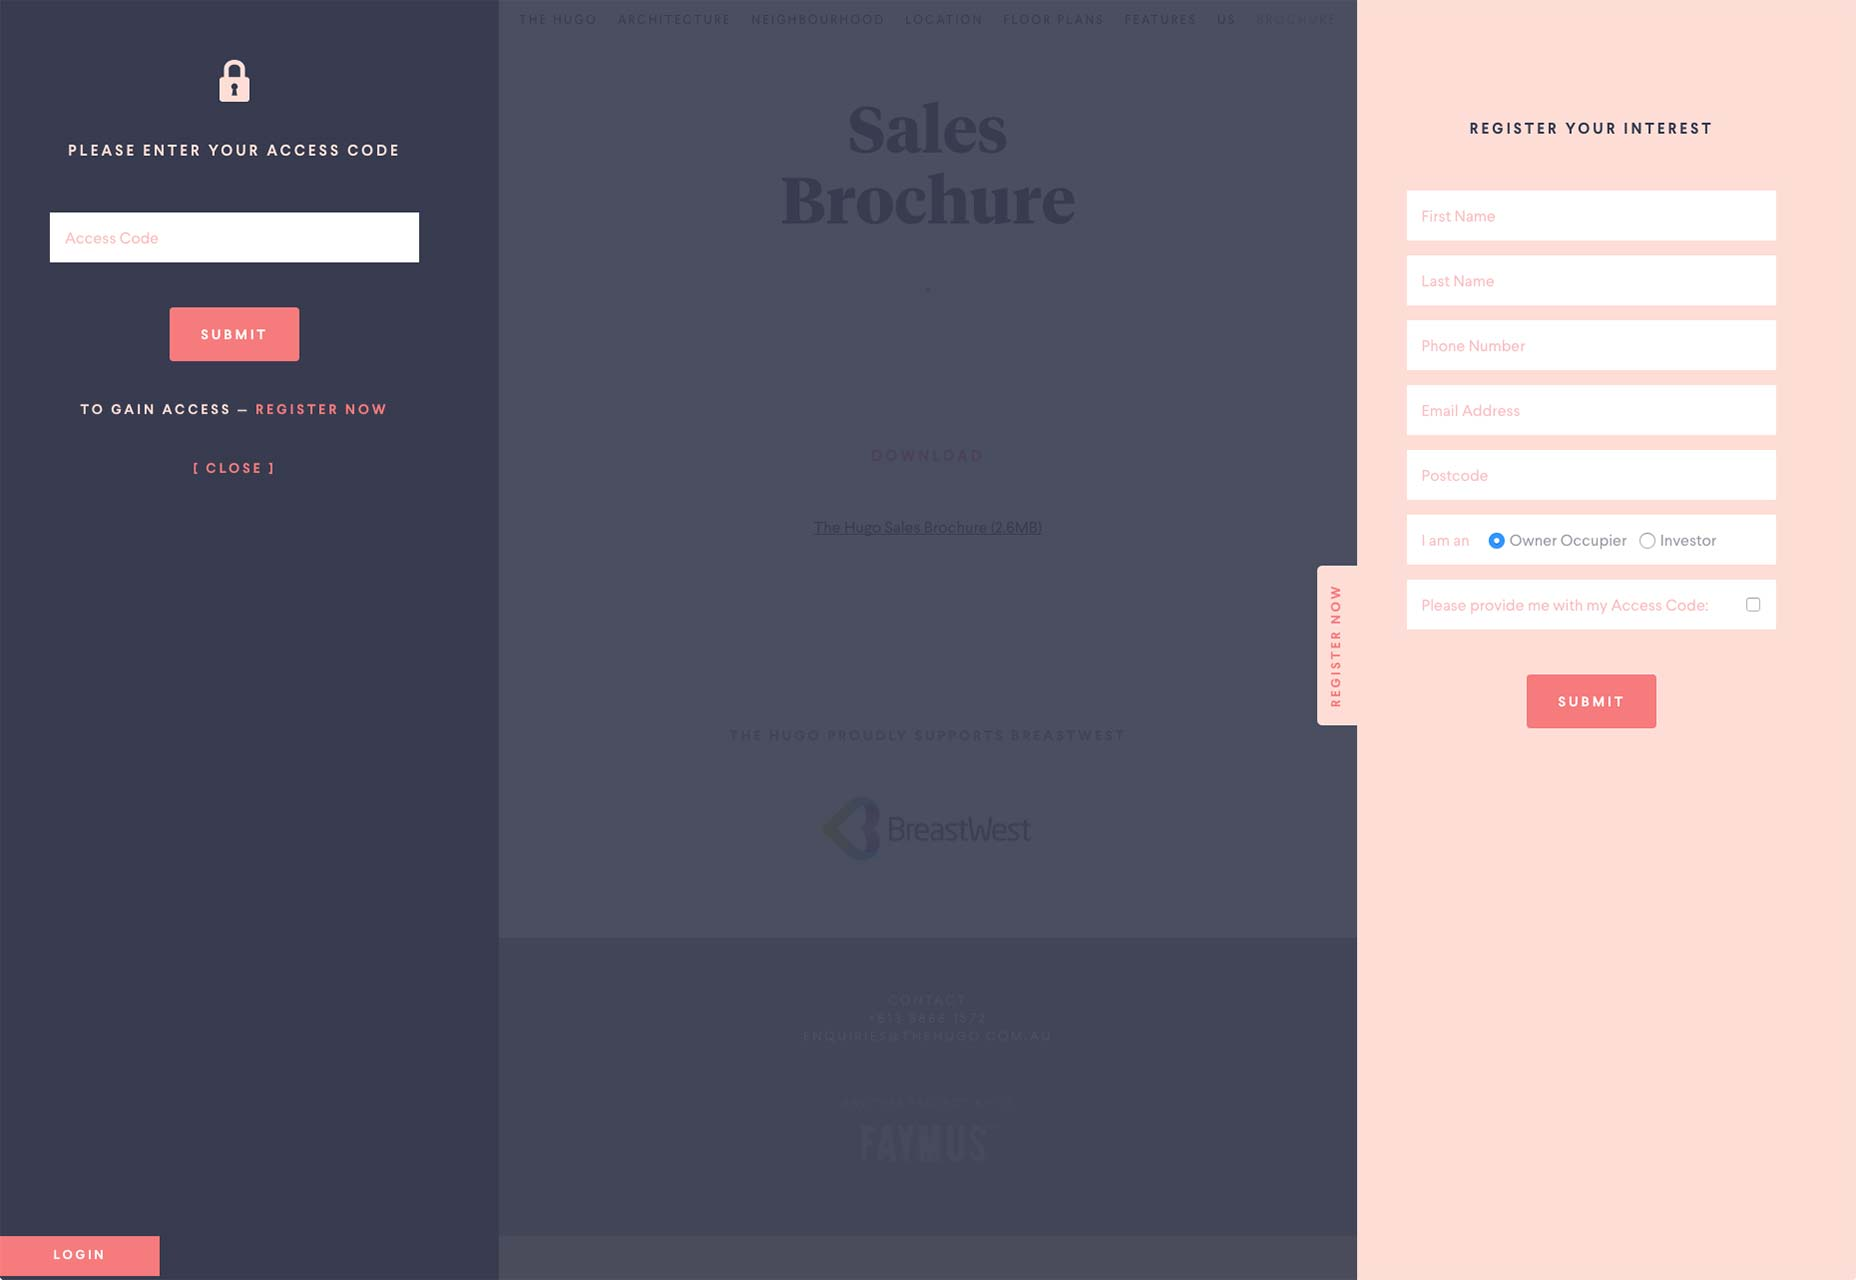_form_: (24, 20, 440, 436), (1367, 156, 1783, 572), (1375, 374, 1791, 789), (1, 1186, 247, 1280)
button: (171, 306, 300, 365), (1525, 672, 1659, 729), (1, 1233, 164, 1276)
checkbox: (1745, 593, 1762, 613)
checkbox_with_label: (1422, 592, 1764, 617)
field: (49, 209, 420, 264), (1406, 189, 1777, 242), (1405, 254, 1776, 307), (1408, 381, 1778, 434), (1406, 319, 1777, 371), (1406, 448, 1777, 500)
radio: (1485, 530, 1506, 553), (1640, 531, 1654, 550)
radio_with_label: (1484, 526, 1626, 555), (1637, 529, 1721, 553)
